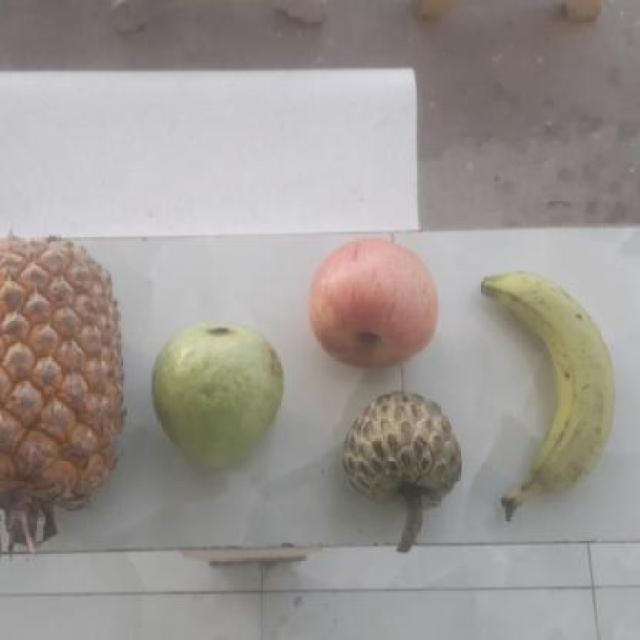apple: (303, 238, 442, 374)
banana: (473, 269, 613, 502)
guava: (146, 321, 282, 470)
pineapple: (0, 235, 122, 516)
sugar apple: (339, 393, 463, 521)
